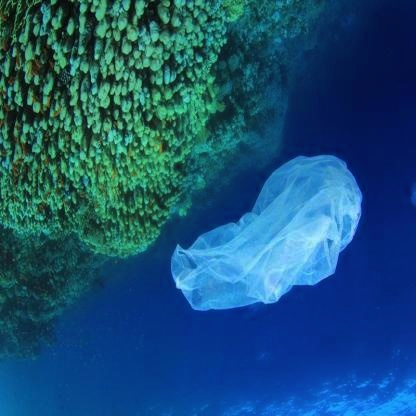pbag: (171, 154, 364, 313)
